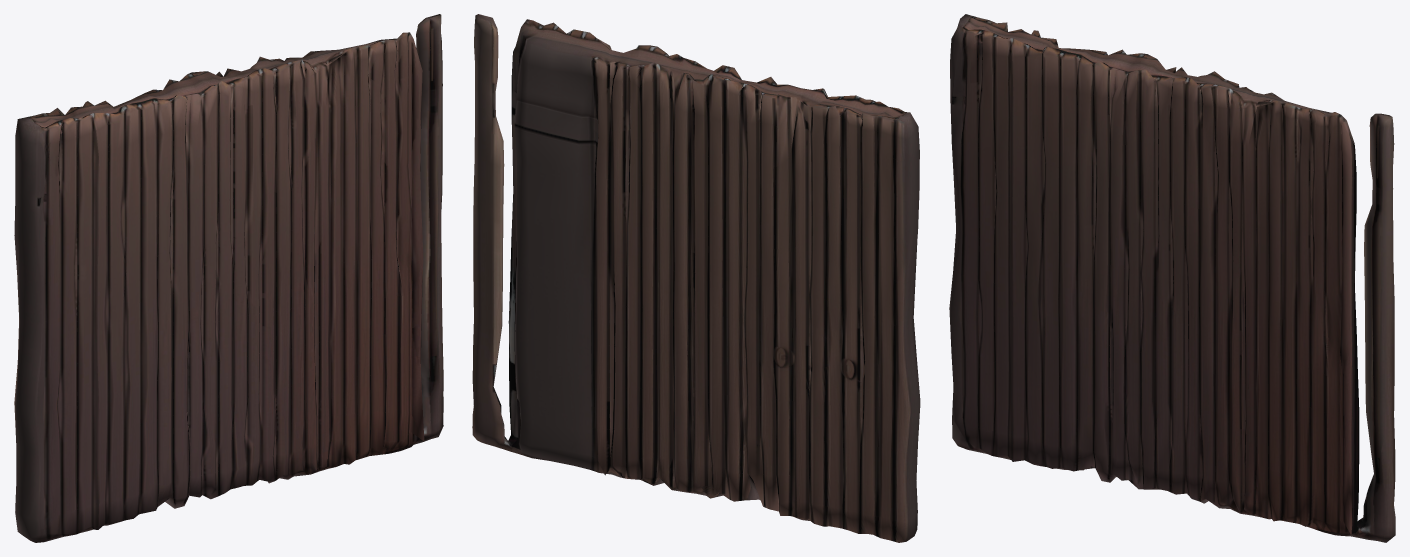
Rendered from FenceDoorDoorDoor.fbx.
3 renders of one model, left to right at view 1: azimuth 30°, elevation 25°; view 2: azimuth 150°, elevation 25°; view 3: azimuth 330°, elevation 25°, orthographic.
Parts seen in each view (by area): view 1: tripo_node_0545361c; view 2: tripo_node_0545361c; view 3: tripo_node_0545361c.
Part boxes in pixels (left/top/right/bottom): tripo_node_0545361c: left=14, top=14, right=443, bottom=542; tripo_node_0545361c: left=472, top=14, right=920, bottom=542; tripo_node_0545361c: left=949, top=14, right=1395, bottom=542.
Bounding box in the file's own units: 76.09 × 71.1 × 7.27.
1 material, 1 textured.
